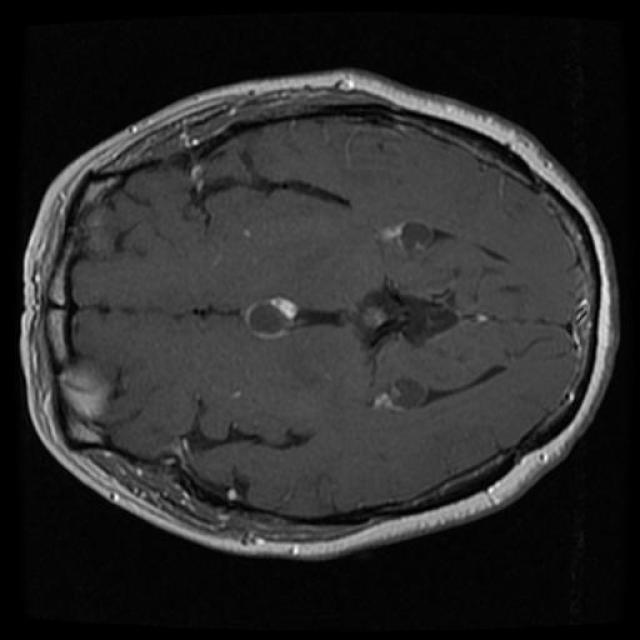Pituitary: (245, 296, 298, 338)
